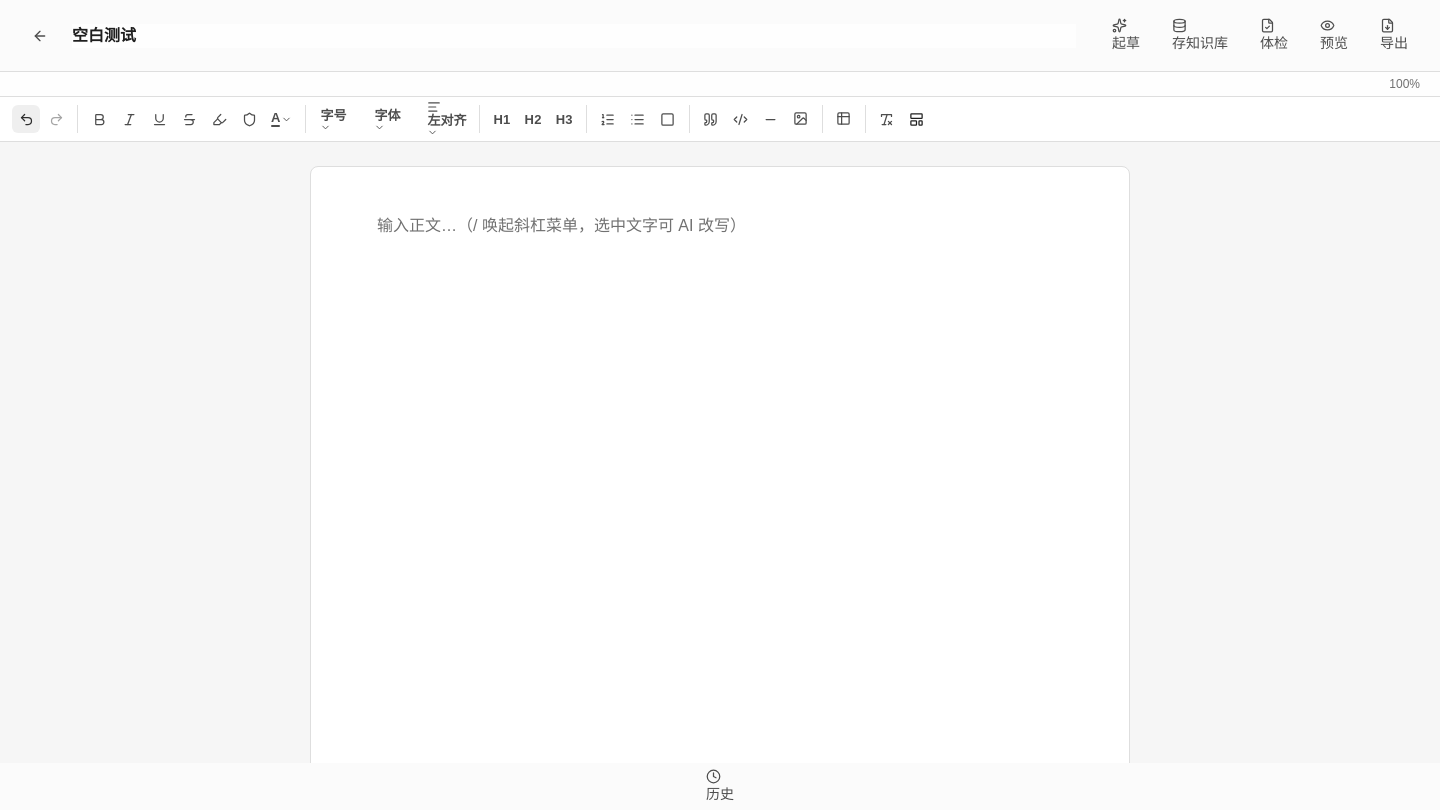
编辑器顶栏起草按钮 › 文档加载完成后点顶栏「起草」→ 起草抽屉弹出（含文体/素材/生成按钮）
Expected: the 1st field showing "空白测试" holds "空白测试", [72, 24, 1076, 48]
Note: 顶栏「起草」按钮（与「AI 起草」footer 按钮区分：精确匹配「起草」）
Click the button "起草".
click(1126, 36)  # box [1100, 12, 1152, 59]
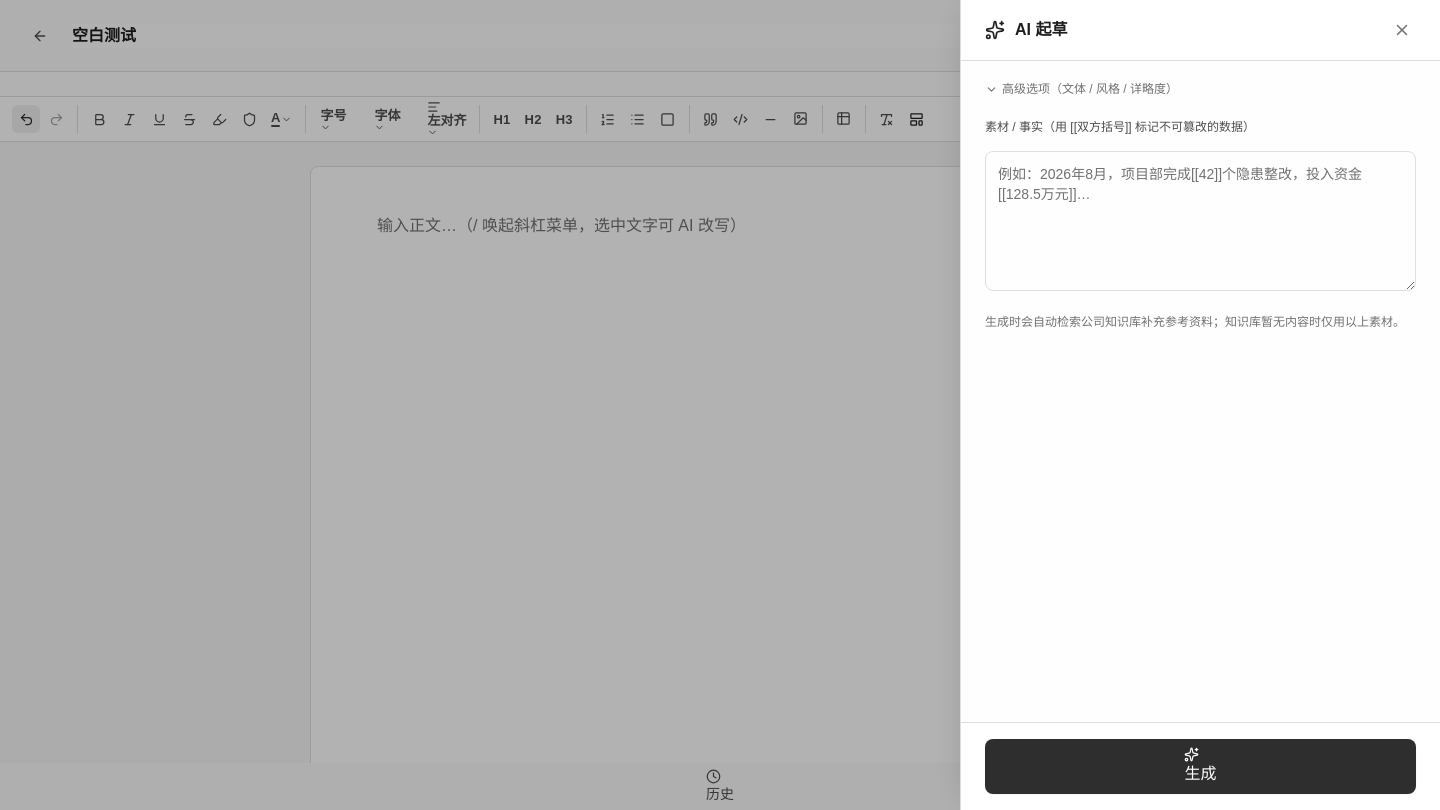
Now the heading "AI 起草" is shown, box [1015, 18, 1068, 42]
Now the button "生成" is shown, box [985, 739, 1416, 794]
Now the text box with placeholder "例如：2026年8月，项目部完成[ [42]]个隐患整改，投入资金[ [128.5万元]]…" is shown, box [985, 151, 1416, 291]
